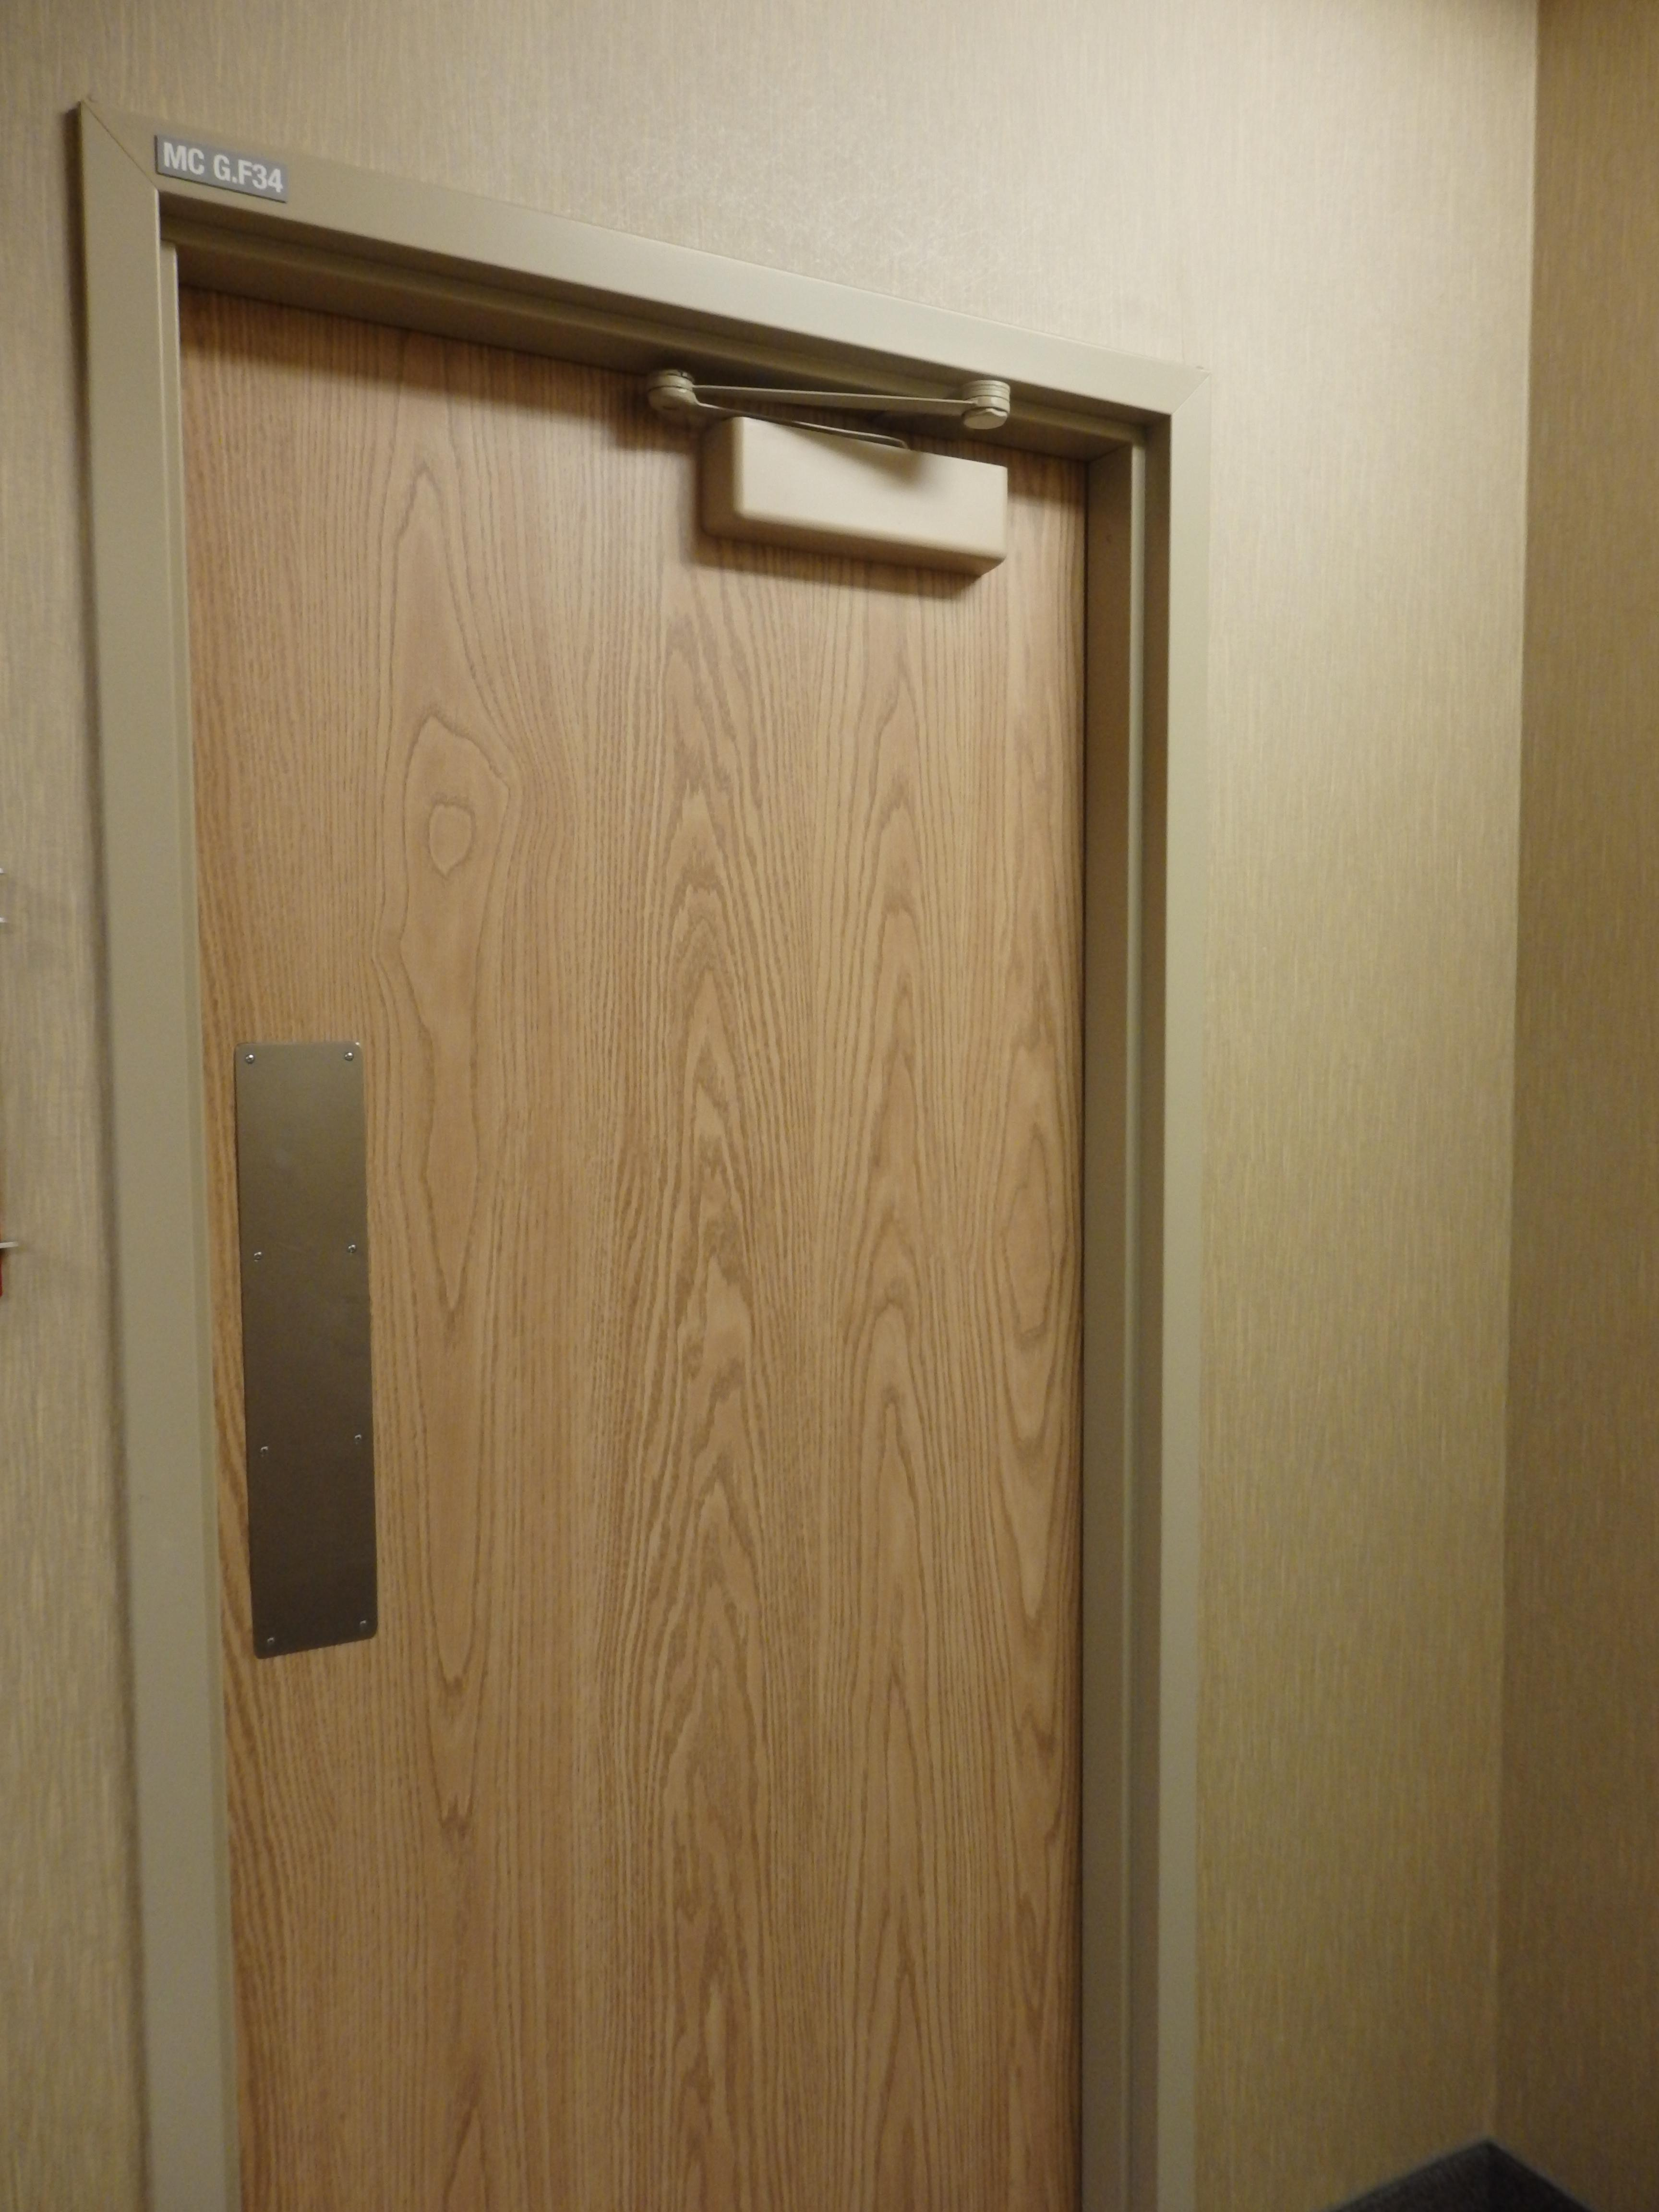door: (84, 94, 1208, 2205)
